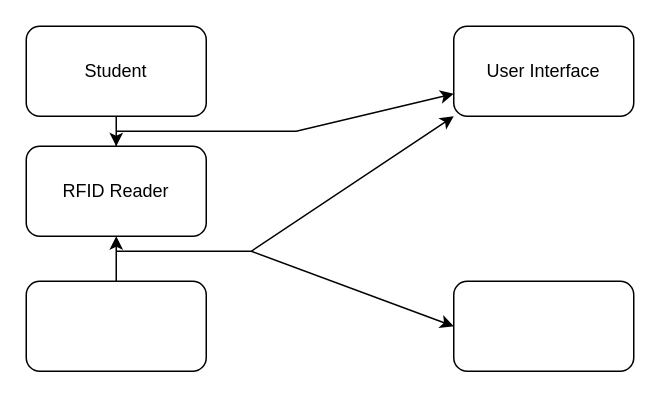
The diagram is 660 pixels wide and 398 high, and some of its shapes have lost their labels. Here are the shapes that lost their labels. From the top down, the centre of each, then its label:
At [115,325]: "Admin Professor".
At [543,325]: "Database (SQLite)".
